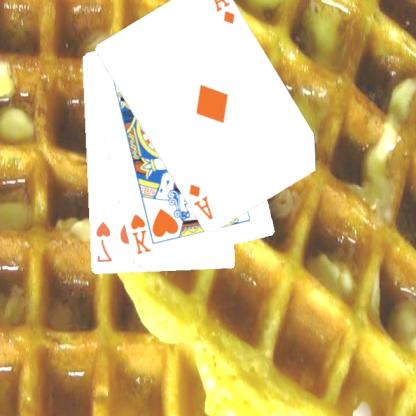7H: (95, 219, 115, 264)
AD: (187, 181, 217, 222), (209, 0, 238, 26)
KH: (129, 212, 154, 256)
